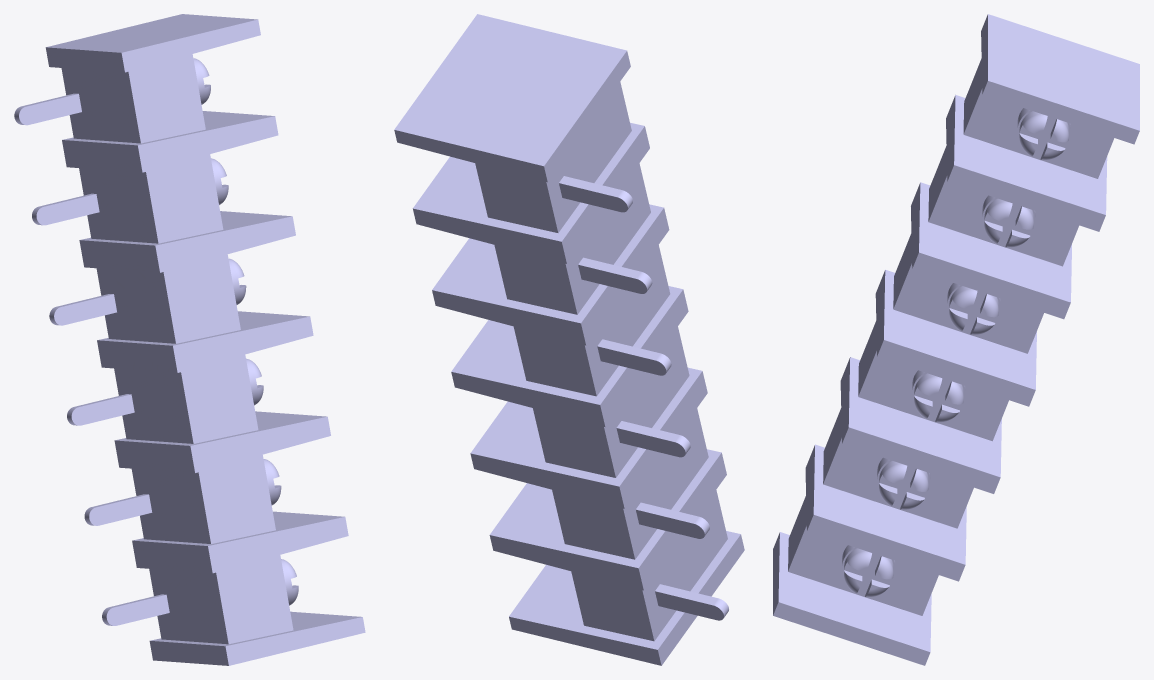
The model's file is EBoxNewAsm_stp_1_IMC413_1_stp_1_IMC413_1_48_stp_1_solid1.obj.
3 renders of one model, left to right at view 1: azimuth 30°, elevation 25°; view 2: azimuth 150°, elevation 25°; view 3: azimuth 270°, elevation 25°, orthographic. The views are drawn at different scales.
Visible parts, largest first — view 1: mesh9415, mesh9449, mesh9467, mesh9432, mesh9378, mesh9398, mesh9386, mesh9420, mesh9437, mesh9454, mesh9471, mesh9403 (+27 smaller); view 2: mesh9479, mesh9448, mesh9380, mesh9414, mesh9397, mesh9465, mesh9431, mesh9471, mesh9403, mesh9420, mesh9386, mesh9437 (+33 smaller); view 3: mesh9479, mesh9397, mesh9414, mesh9380, mesh9448, mesh9465, mesh9431, mesh9434, mesh9417, mesh9468, mesh9377, mesh9451 (+25 smaller).
Part boxes in pixels (bbox=[...]): mesh9415: bbox=[181, 354, 258, 443]; mesh9449: bbox=[146, 154, 223, 243]; mesh9467: bbox=[128, 54, 205, 143]; mesh9432: bbox=[163, 254, 240, 343]; mesh9378: bbox=[216, 555, 293, 643]; mesh9398: bbox=[198, 454, 275, 543]; mesh9386: bbox=[149, 569, 228, 644]; mesh9420: bbox=[114, 368, 193, 443]; mesh9437: bbox=[96, 268, 175, 343]; mesh9454: bbox=[79, 168, 158, 243]; mesh9471: bbox=[61, 68, 140, 143]; mesh9403: bbox=[131, 468, 210, 543]; mesh9479: bbox=[394, 14, 626, 166]; mesh9448: bbox=[432, 204, 663, 323]; mesh9380: bbox=[509, 531, 740, 649]; mesh9414: bbox=[470, 367, 701, 486]; mesh9397: bbox=[490, 449, 721, 568]; mesh9465: bbox=[413, 122, 644, 241]; mesh9431: bbox=[451, 286, 682, 404]; mesh9471: bbox=[546, 82, 631, 232]; mesh9403: bbox=[623, 408, 708, 559]; mesh9420: bbox=[604, 327, 689, 477]; mesh9386: bbox=[642, 490, 727, 640]; mesh9437: bbox=[585, 245, 670, 395]; mesh9479: bbox=[988, 14, 1139, 130]; mesh9397: bbox=[813, 444, 966, 564]; mesh9414: bbox=[848, 357, 1001, 477]; mesh9380: bbox=[778, 532, 931, 652]; mesh9448: bbox=[919, 182, 1071, 302]; mesh9465: bbox=[954, 95, 1107, 214]; mesh9431: bbox=[884, 269, 1036, 389]; mesh9434: bbox=[893, 263, 1043, 353]; mesh9417: bbox=[858, 351, 1008, 441]; mesh9468: bbox=[963, 88, 1114, 178]; mesh9377: bbox=[788, 526, 938, 615]; mesh9451: bbox=[928, 176, 1079, 266].
Bounding box in the file's own units: 0.0177 × 0.0519 × 0.0295.
